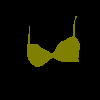reggiseno: (27, 15, 80, 67)
